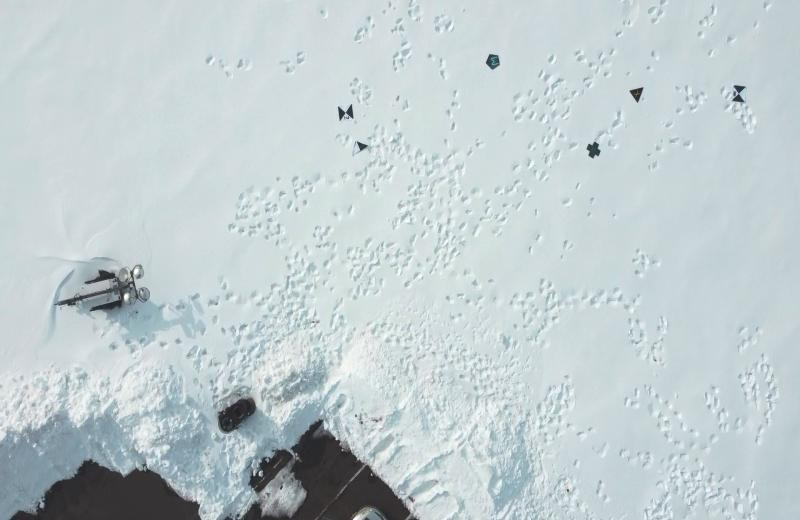Cross: (584, 142, 603, 160)
Pentagon: (485, 53, 500, 72)
Triangle: (628, 88, 645, 104)
